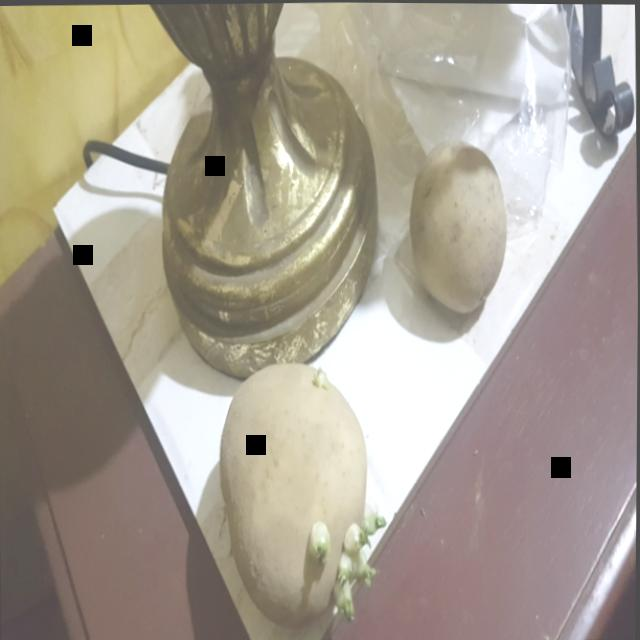potato: (217, 360, 391, 634), (398, 132, 508, 321)
